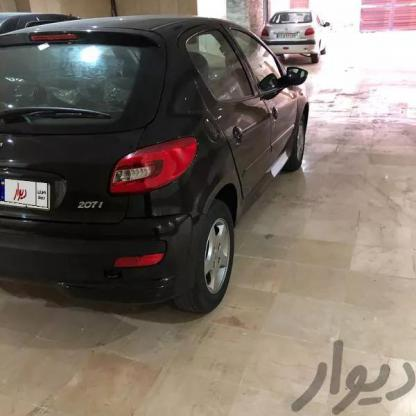Car: (0, 15, 318, 321), (253, 5, 336, 63)
